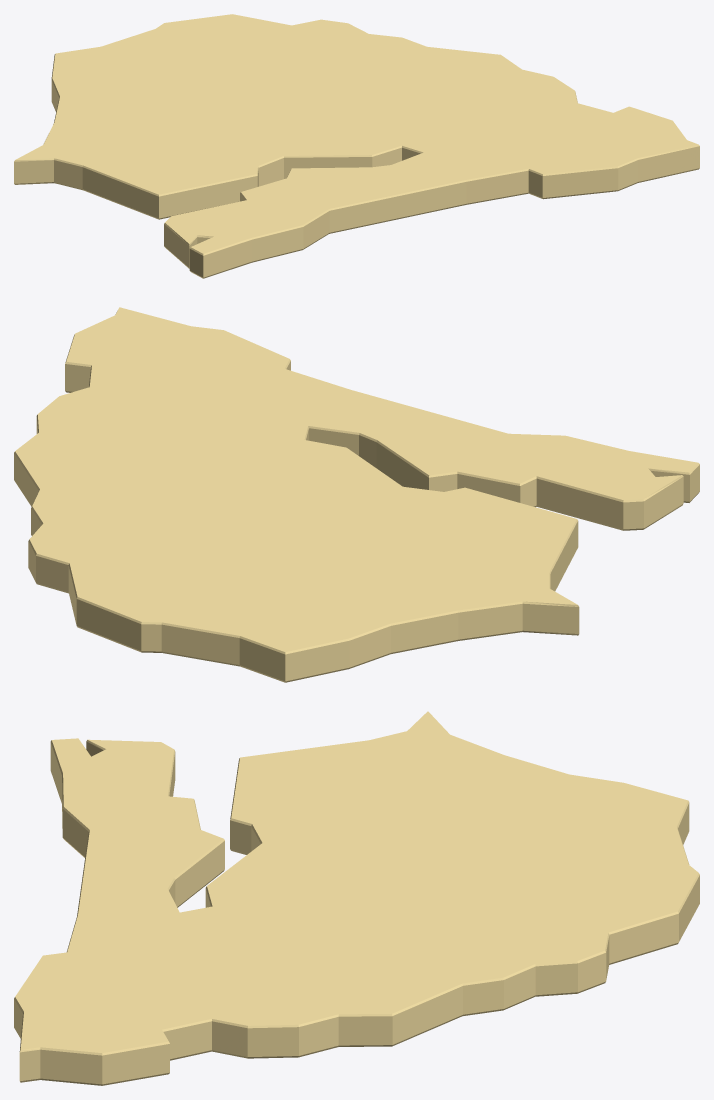
The model's file is SEN.glb.
The picture shows the model from 3 angles, top to bottom: view 1: azimuth 30°, elevation 25°; view 2: azimuth 150°, elevation 25°; view 3: azimuth 270°, elevation 25°; orthographic projection. The views are drawn at different scales.
Bounding box in the file's own units: 1.53 × 0.068 × 1.29.
